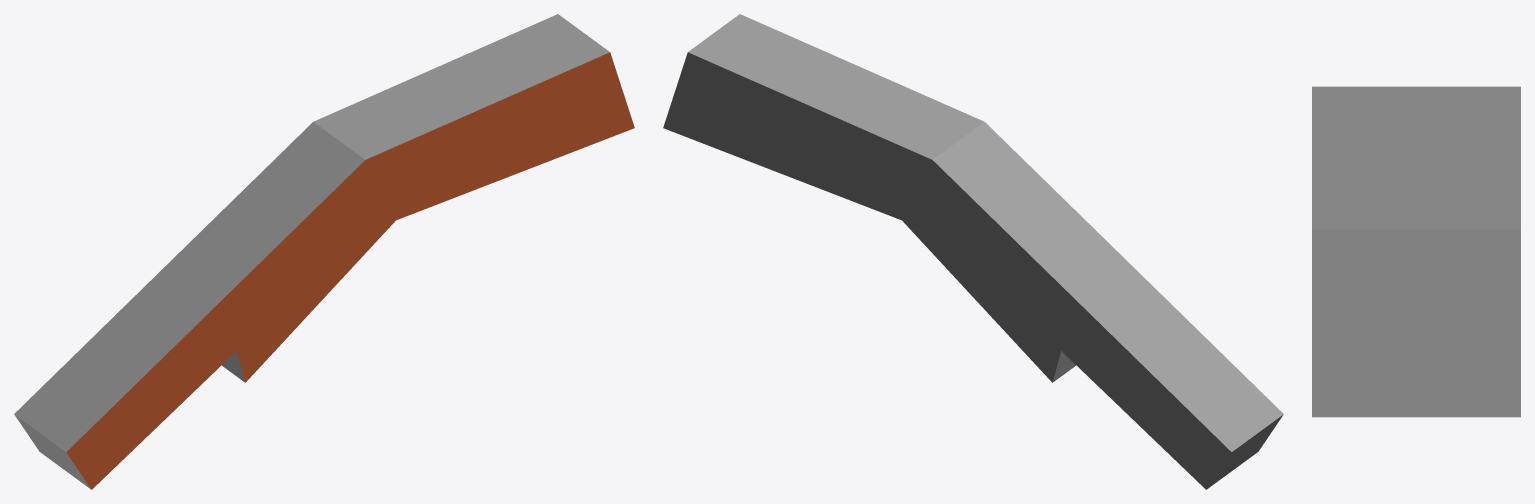
Rendered from construction_3536_assumed_A_Casa_h6m.obj.
The picture shows the model from 3 angles, left to right: view 1: azimuth 30°, elevation 25°; view 2: azimuth 150°, elevation 25°; view 3: azimuth 270°, elevation 25°; orthographic projection. The views are drawn at different scales.
Parts seen in each view (by area): view 1: construction_3536_assumed_A_Casa; view 2: construction_3536_assumed_A_Casa; view 3: construction_3536_assumed_A_Casa.
Boxes of the visible parts, bbox=[...] form: construction_3536_assumed_A_Casa: bbox=[14, 14, 634, 489]; construction_3536_assumed_A_Casa: bbox=[663, 14, 1283, 489]; construction_3536_assumed_A_Casa: bbox=[1312, 86, 1520, 417].
Bounding box in the file's own units: 37.75 × 19.75 × 6.
